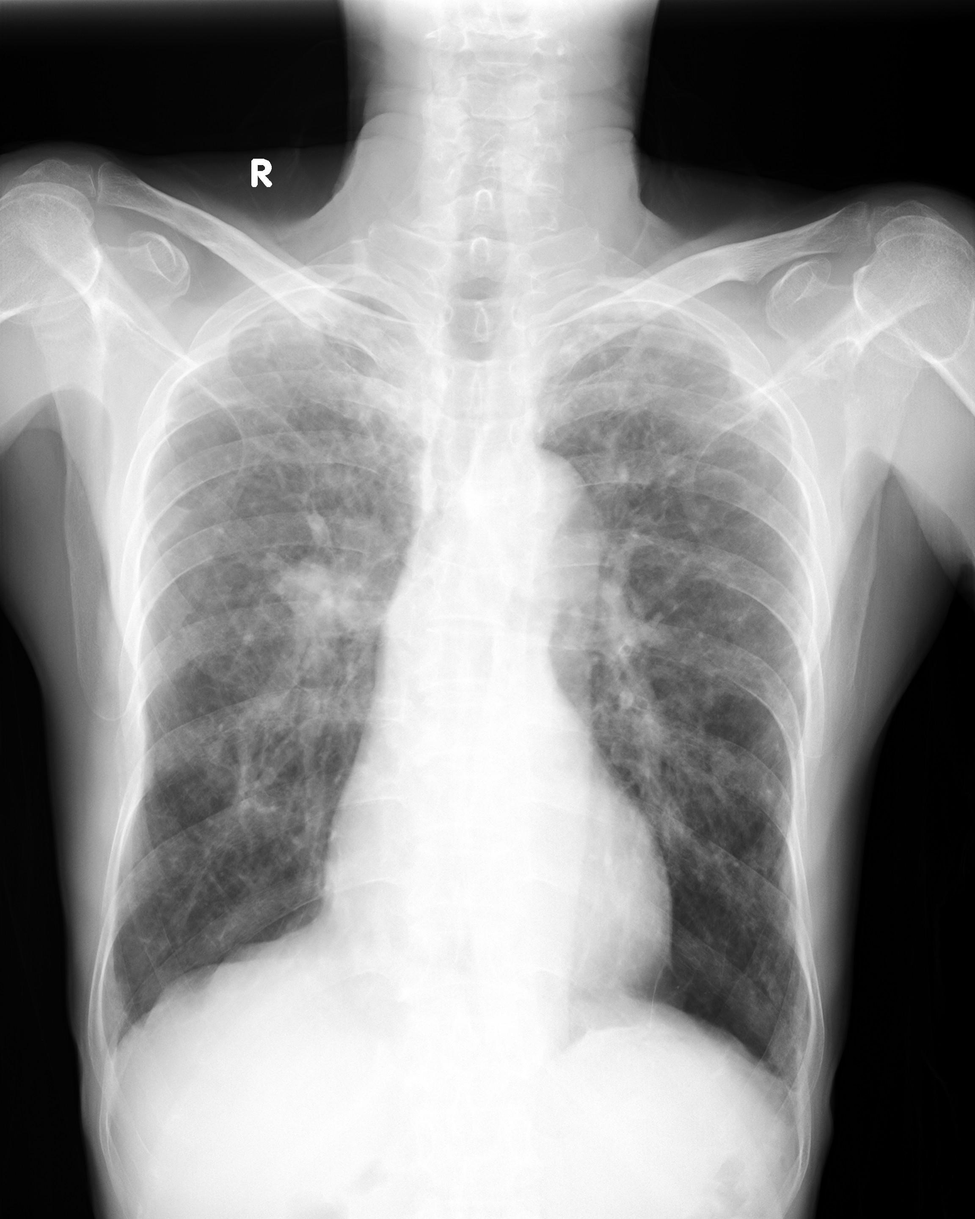Aortic enlargement: (497, 447, 600, 639)
Pleural thickening: (773, 1059, 808, 1128), (93, 1015, 124, 1070)
Pulmonary fibrosis: (188, 304, 417, 577), (554, 278, 784, 498)
